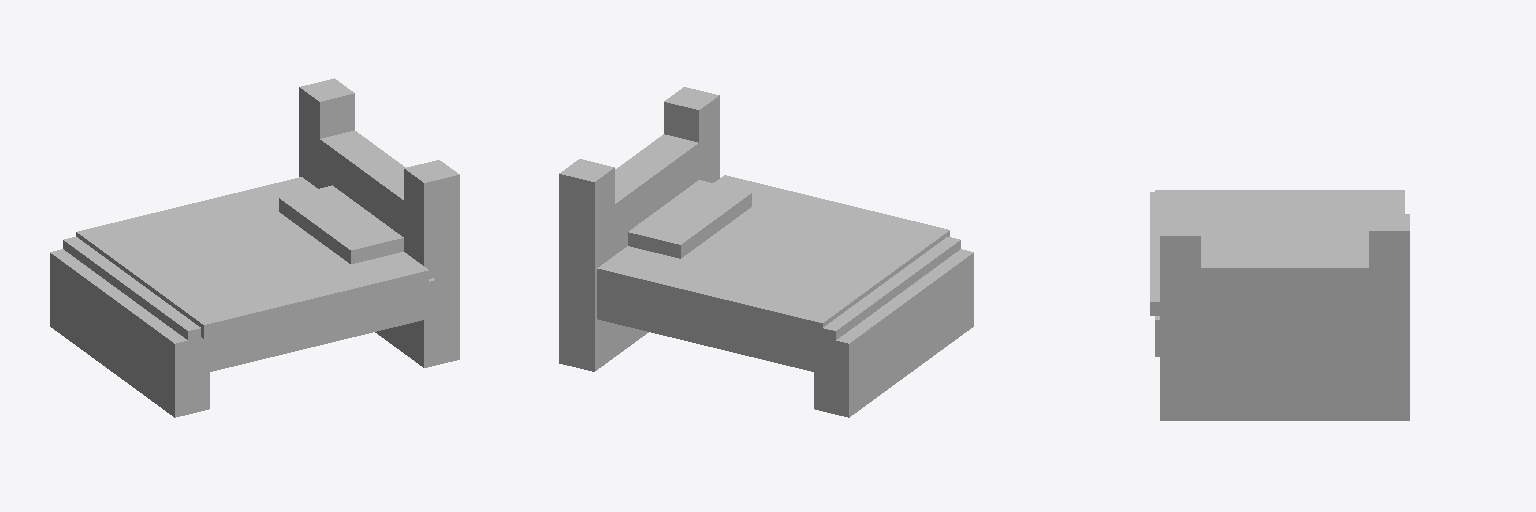
The model's file is bed.obj.
3 views of the same model, side by side, from view 1: azimuth 30°, elevation 25°; view 2: azimuth 150°, elevation 25°; view 3: azimuth 270°, elevation 25° (orthographic).
Visible parts, largest first — view 1: group[number redacted], group[number redacted], group[number redacted], group[number redacted], group[number redacted], group[number redacted], group[number redacted], group[number redacted]; view 2: group[number redacted], group[number redacted], group[number redacted], group[number redacted], group[number redacted], group[number redacted], group[number redacted], group[number redacted]; view 3: group[number redacted], group[number redacted], group[number redacted], group[number redacted], group[number redacted].
Part boxes in pixels (x1,y1,x2,y2): group[number redacted]: (76, 177, 428, 338); group[number redacted]: (50, 249, 435, 380); group[number redacted]: (299, 124, 459, 367); group[number redacted]: (50, 290, 209, 417); group[number redacted]: (279, 185, 403, 263); group[number redacted]: (63, 237, 426, 355); group[number redacted]: (299, 78, 354, 138); group[number redacted]: (404, 160, 459, 219); group[number redacted]: (597, 175, 949, 336); group[number redacted]: (597, 249, 973, 380); group[number redacted]: (559, 129, 719, 371); group[number redacted]: (814, 290, 973, 417); group[number redacted]: (628, 180, 751, 258); group[number redacted]: (597, 237, 960, 339); group[number redacted]: (559, 159, 614, 218); group[number redacted]: (664, 87, 719, 146); group[number redacted]: (1160, 251, 1409, 420); group[number redacted]: (1150, 192, 1404, 315); group[number redacted]: (1369, 214, 1409, 267); group[number redacted]: (1160, 219, 1200, 272); group[number redacted]: (1155, 190, 1404, 315).
Bounding box in the file's own units: 0.65 × 0.41 × 0.51.